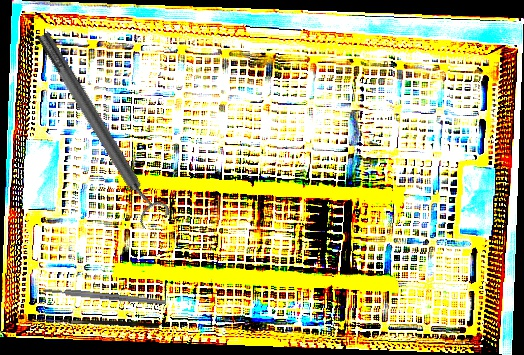Fixation Ring: (28, 24, 173, 232)
Hook Surgical: (33, 318, 160, 329)
Scalpel Handle: (41, 286, 168, 307)
